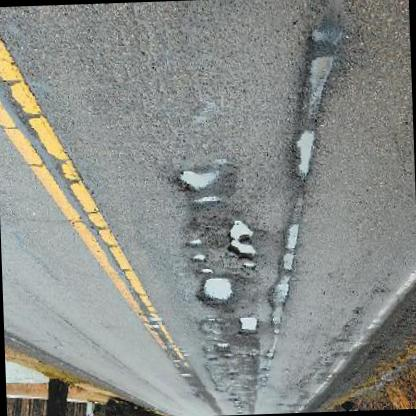pothole: (299, 55, 337, 119), (225, 219, 257, 262), (198, 278, 233, 313), (292, 130, 317, 178), (174, 172, 216, 195), (267, 277, 292, 311), (282, 224, 302, 254), (238, 314, 258, 338), (191, 195, 221, 209), (191, 252, 208, 266), (186, 240, 203, 249), (216, 342, 230, 352), (200, 268, 212, 277)
